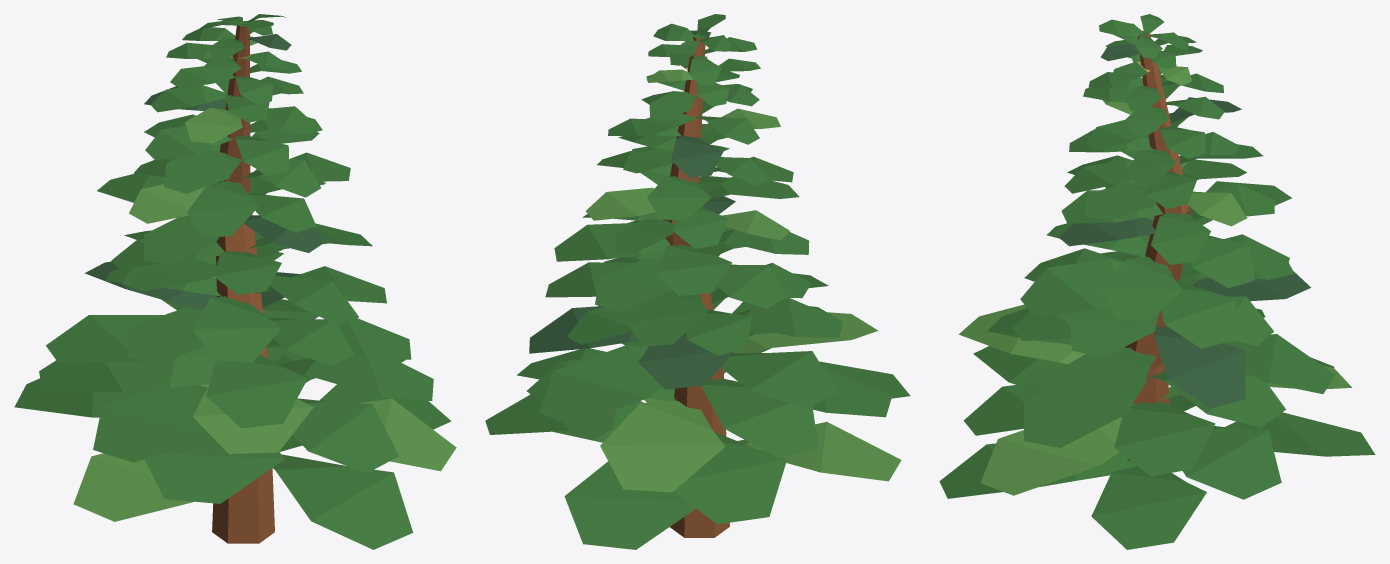
The model's file is leafyTree.fbx.
3 renders of one model, left to right at view 1: azimuth 30°, elevation 25°; view 2: azimuth 150°, elevation 25°; view 3: azimuth 270°, elevation 25°, orthographic. The views are drawn at different scales.
Parts seen in each view (by area): view 1: Plane; view 2: Plane; view 3: Plane.
Part boxes in pixels (x1=…): Plane: x1=14, y1=14, x2=456, y2=549; Plane: x1=485, y1=14, x2=910, y2=549; Plane: x1=939, y1=14, x2=1375, y2=549.
Bounding box in the file's own units: 327 × 422 × 336.
Materials: 1 (1 with a texture image).
